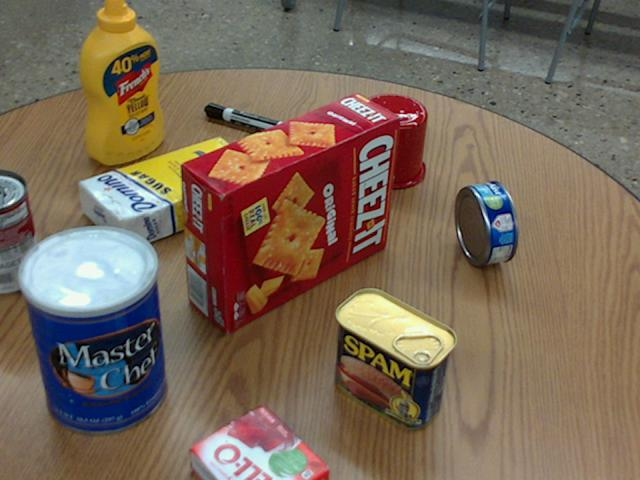cracker_box: (182, 93, 399, 331)
gelatin_box: (187, 405, 328, 479)
large_marker: (205, 102, 293, 137)
master_chef_can: (18, 226, 165, 434)
mug: (346, 94, 427, 189)
mustard_bottle: (81, 0, 163, 164)
potted_meat_can: (333, 287, 455, 429)
sugar_box: (78, 135, 261, 251)
tomato_soup_can: (0, 168, 40, 293)
tuna_fish_can: (453, 180, 518, 264)
